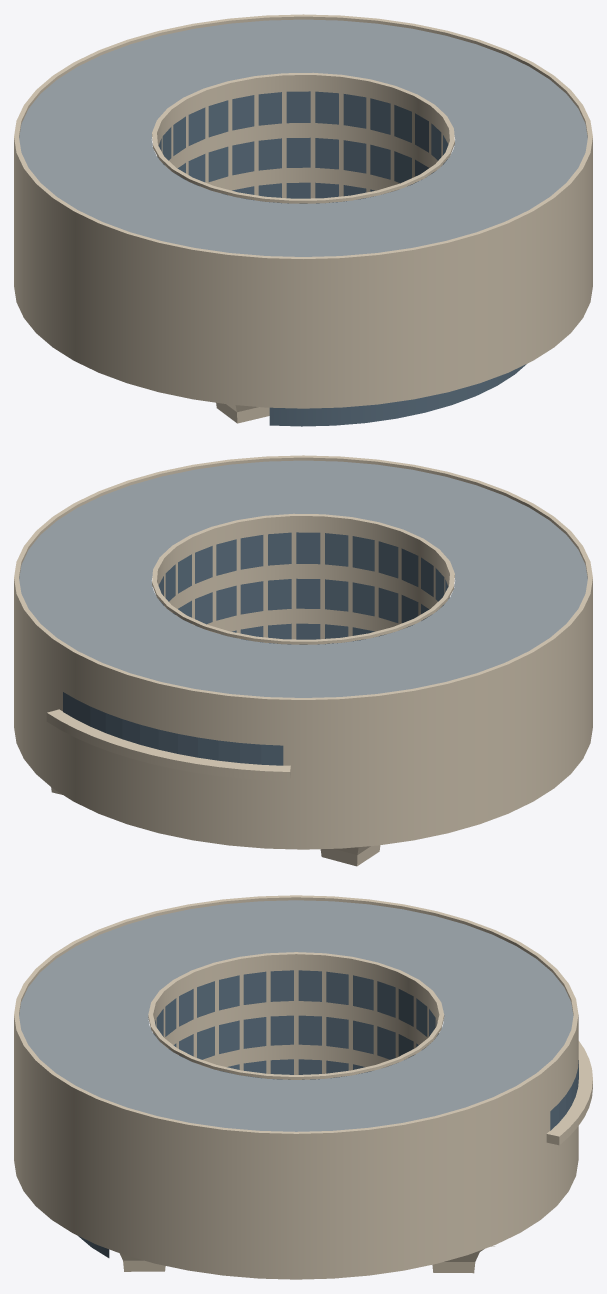
File: dc-hirshhorn.glb
3 views of the same model, one above another, from view 1: azimuth 30°, elevation 25°; view 2: azimuth 150°, elevation 25°; view 3: azimuth 270°, elevation 25° (orthographic). The views are drawn at different scales.
Parts seen in each view (by area): view 1: Hirshhorn Museum; view 2: Hirshhorn Museum; view 3: Hirshhorn Museum.
Part boxes in pixels (left/top/right/bottom): Hirshhorn Museum: left=14, top=14, right=592, bottom=426; Hirshhorn Museum: left=14, top=455, right=592, bottom=866; Hirshhorn Museum: left=14, top=895, right=592, bottom=1279.
Size of the model in its own units: 70.2 by 25 by 72.
